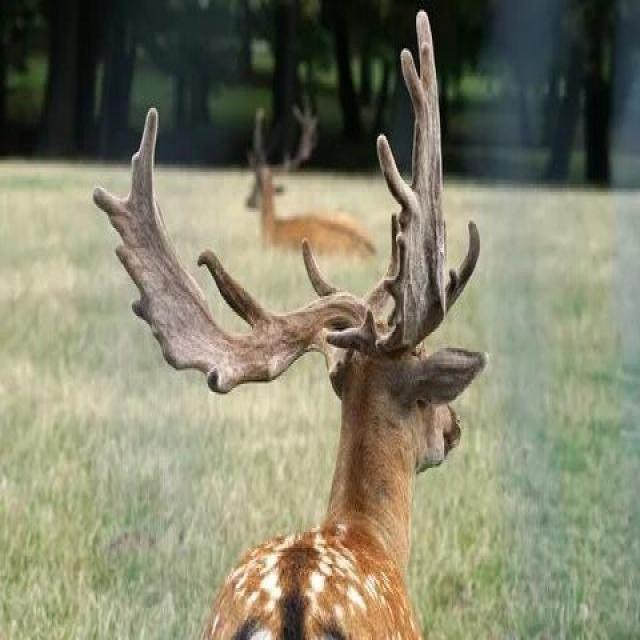deer: (106, 108, 485, 640), (234, 105, 350, 318)
